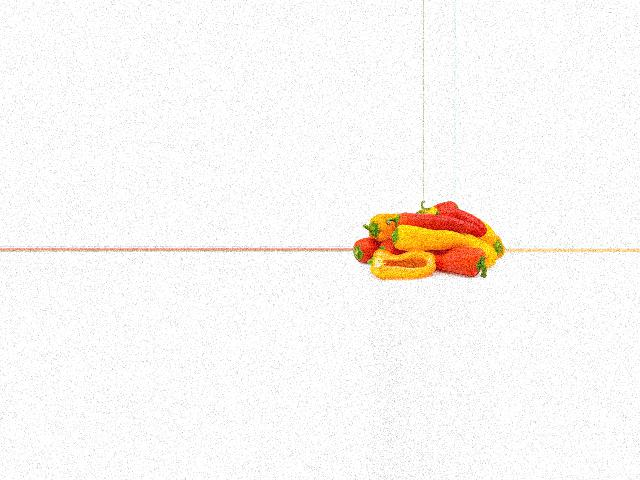bell_pepper: (352, 232, 395, 262)
